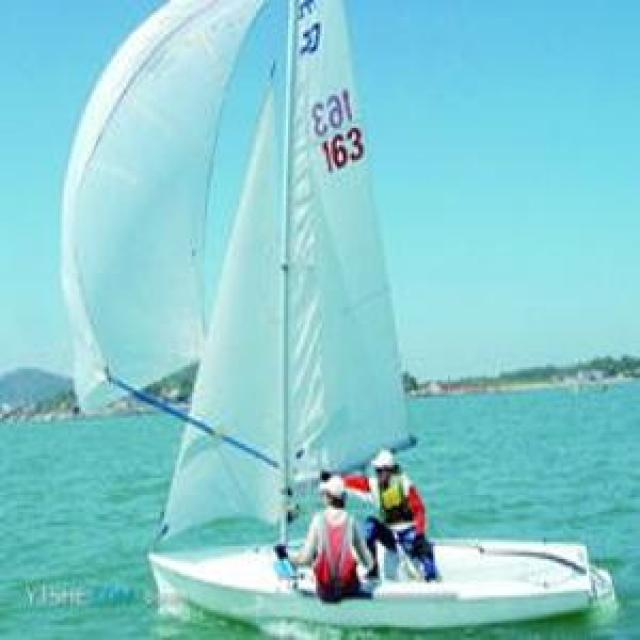sailboat: (62, 0, 594, 622)
